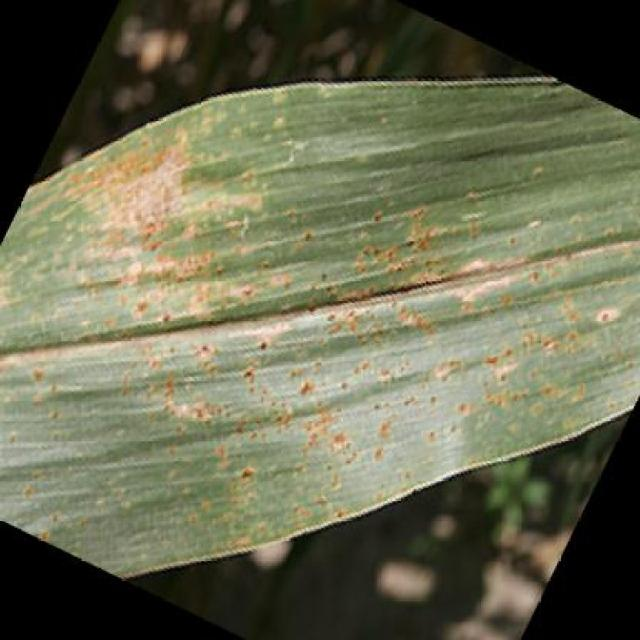Corn_Rust: (117, 71, 552, 566)
